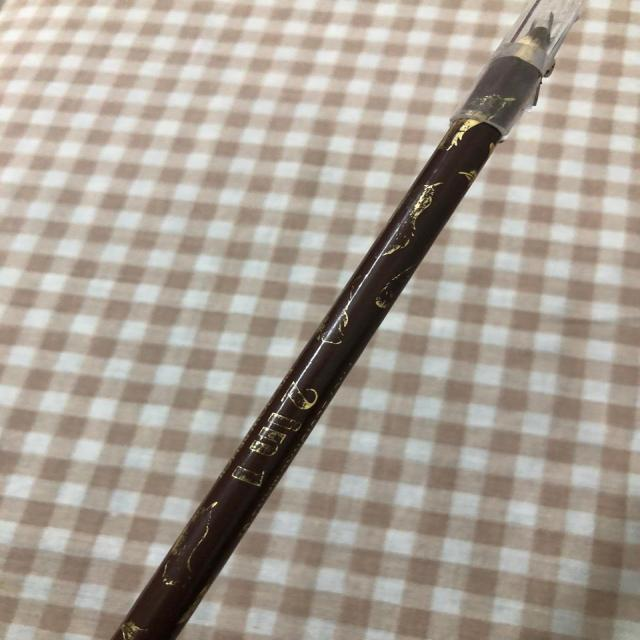eye liner: (80, 0, 608, 640)
